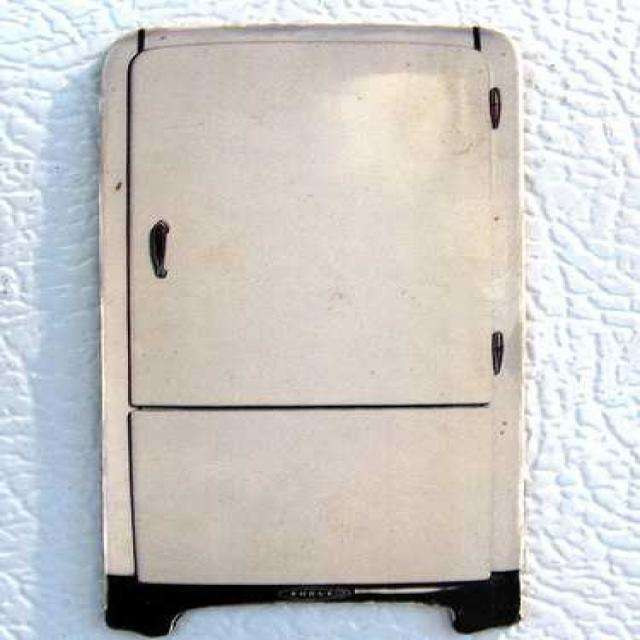refrigerator: (94, 25, 526, 629)
